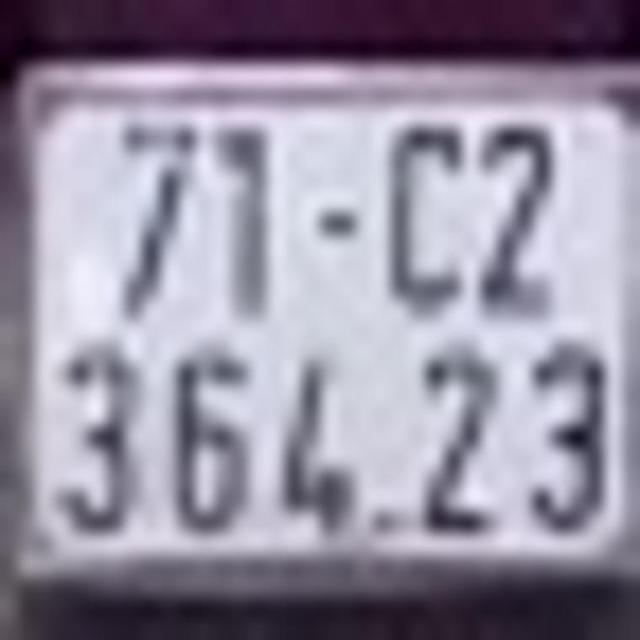1: (212, 118, 277, 322)
2: (416, 336, 502, 536), (476, 118, 559, 321)
3: (52, 335, 139, 537), (524, 334, 610, 536)
4: (278, 348, 357, 540)
6: (172, 339, 252, 536)
7: (108, 112, 202, 325)
C: (382, 118, 467, 316)
